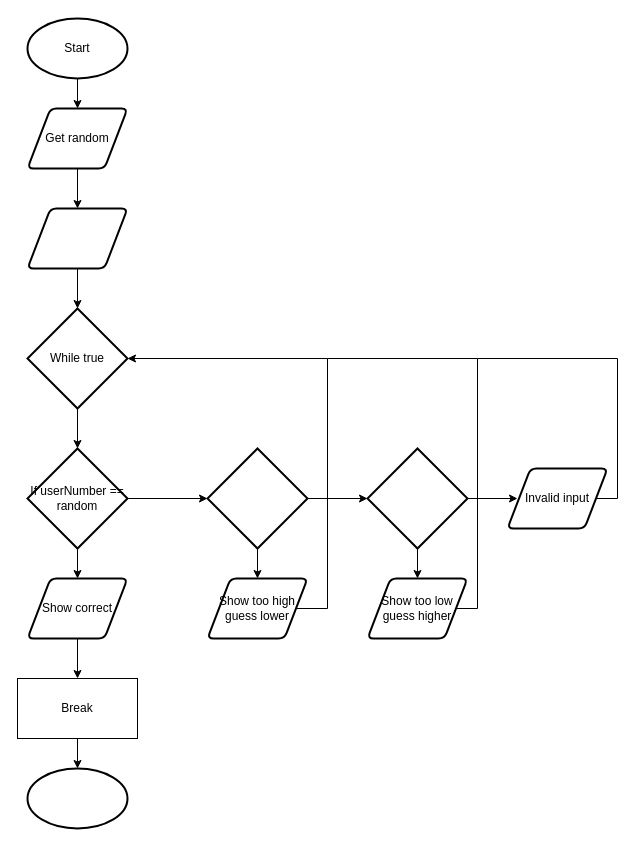
Image size: 636x846. Some labels were removed from this diagram. Here are the shapes that lost their labels. From the top down, the box of each, then its label:
(26, 207, 128, 269): Get counter
(206, 447, 308, 549): else If userNumber > random
(366, 447, 468, 549): else If userNumber < random
(26, 767, 128, 829): Stop
